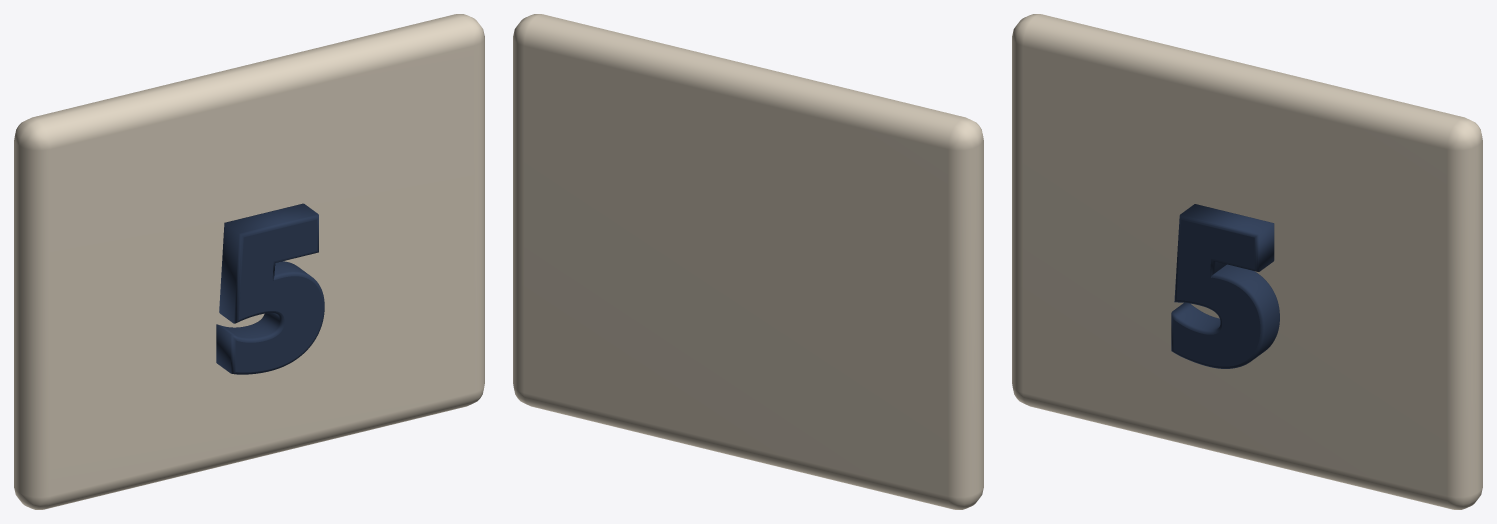
The model's file is BufferTag5.fbx.
The picture shows the model from 3 angles, left to right: view 1: azimuth 30°, elevation 25°; view 2: azimuth 150°, elevation 25°; view 3: azimuth 330°, elevation 25°; orthographic projection.
Parts seen in each view (by area): view 1: BufferTag5 mesh; view 2: BufferTag5 mesh; view 3: BufferTag5 mesh.
Boxes of the visible parts, box(x1,y1,x2,y2) form: BufferTag5 mesh: box(14, 14, 484, 509); BufferTag5 mesh: box(513, 14, 983, 509); BufferTag5 mesh: box(1012, 14, 1482, 509).
Size of the model in its own units: 0.15 by 0.12 by 0.024.
